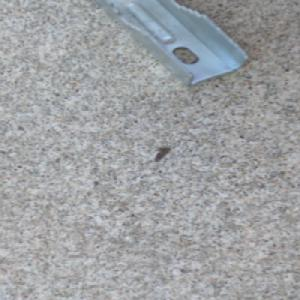ClampPart: (94, 0, 254, 90)
